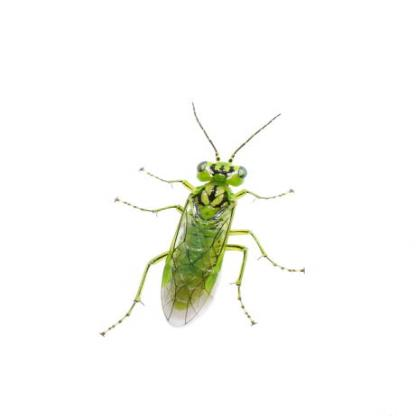sawfly: (96, 92, 304, 338)
